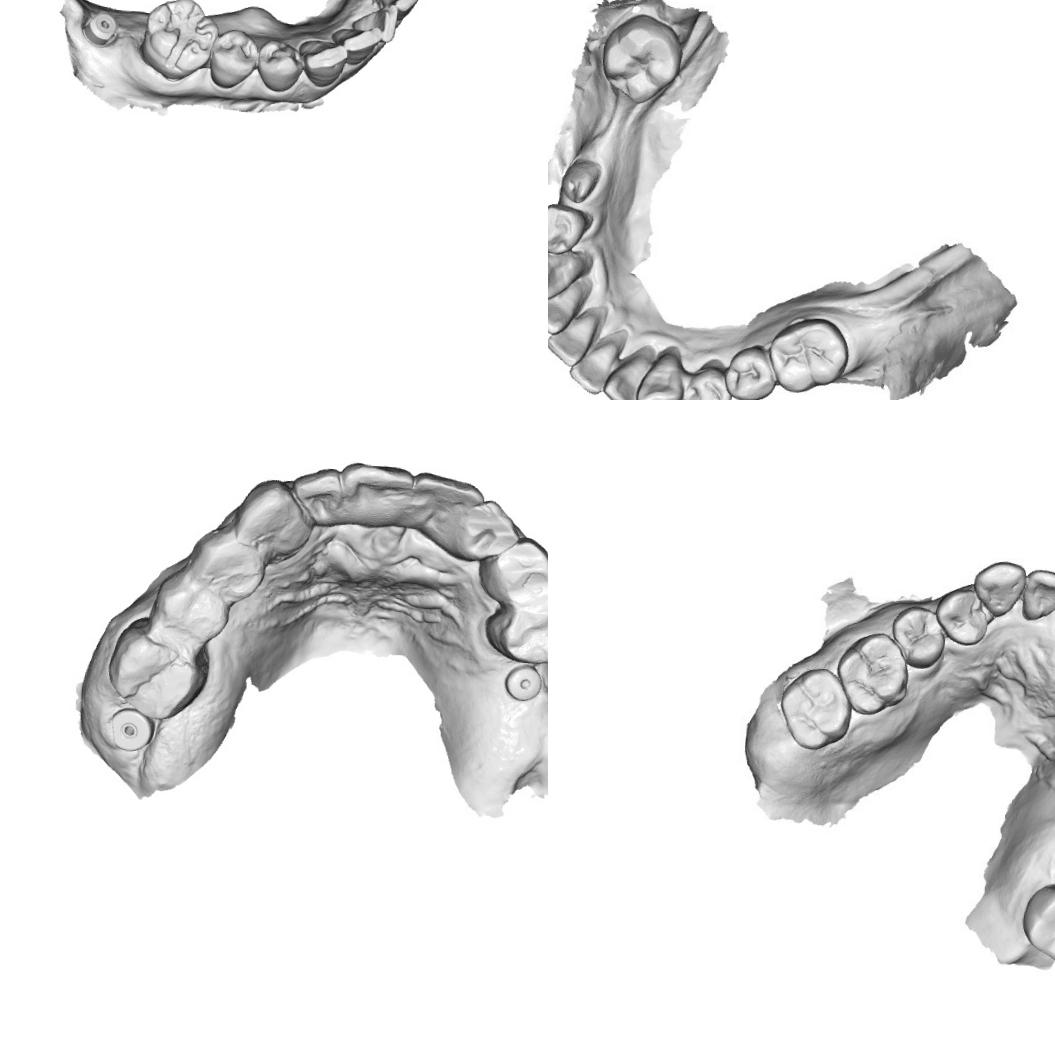canine: (231, 478, 313, 558), (478, 534, 548, 605), (971, 558, 1026, 618), (632, 345, 682, 400), (296, 38, 348, 88), (548, 248, 590, 297)
implant: (105, 705, 154, 754), (500, 660, 543, 704), (79, 7, 122, 50)
incisor: (336, 460, 416, 537), (408, 468, 486, 538), (448, 496, 522, 568), (288, 463, 346, 529), (567, 332, 617, 398), (548, 311, 603, 370), (599, 353, 652, 400), (330, 22, 382, 68), (548, 277, 587, 338), (349, 1, 398, 43), (1023, 566, 1055, 621), (369, 0, 422, 22)
molar: (102, 616, 210, 723), (597, 10, 684, 106), (135, 0, 222, 84), (767, 314, 852, 398), (774, 666, 851, 752), (835, 631, 909, 717), (1017, 880, 1055, 965)
premolar: (148, 569, 227, 651), (184, 528, 264, 602), (480, 595, 548, 668), (936, 584, 991, 649), (894, 604, 948, 667), (206, 26, 259, 90), (724, 341, 779, 400), (255, 37, 306, 93), (548, 199, 598, 254), (683, 359, 737, 400)
